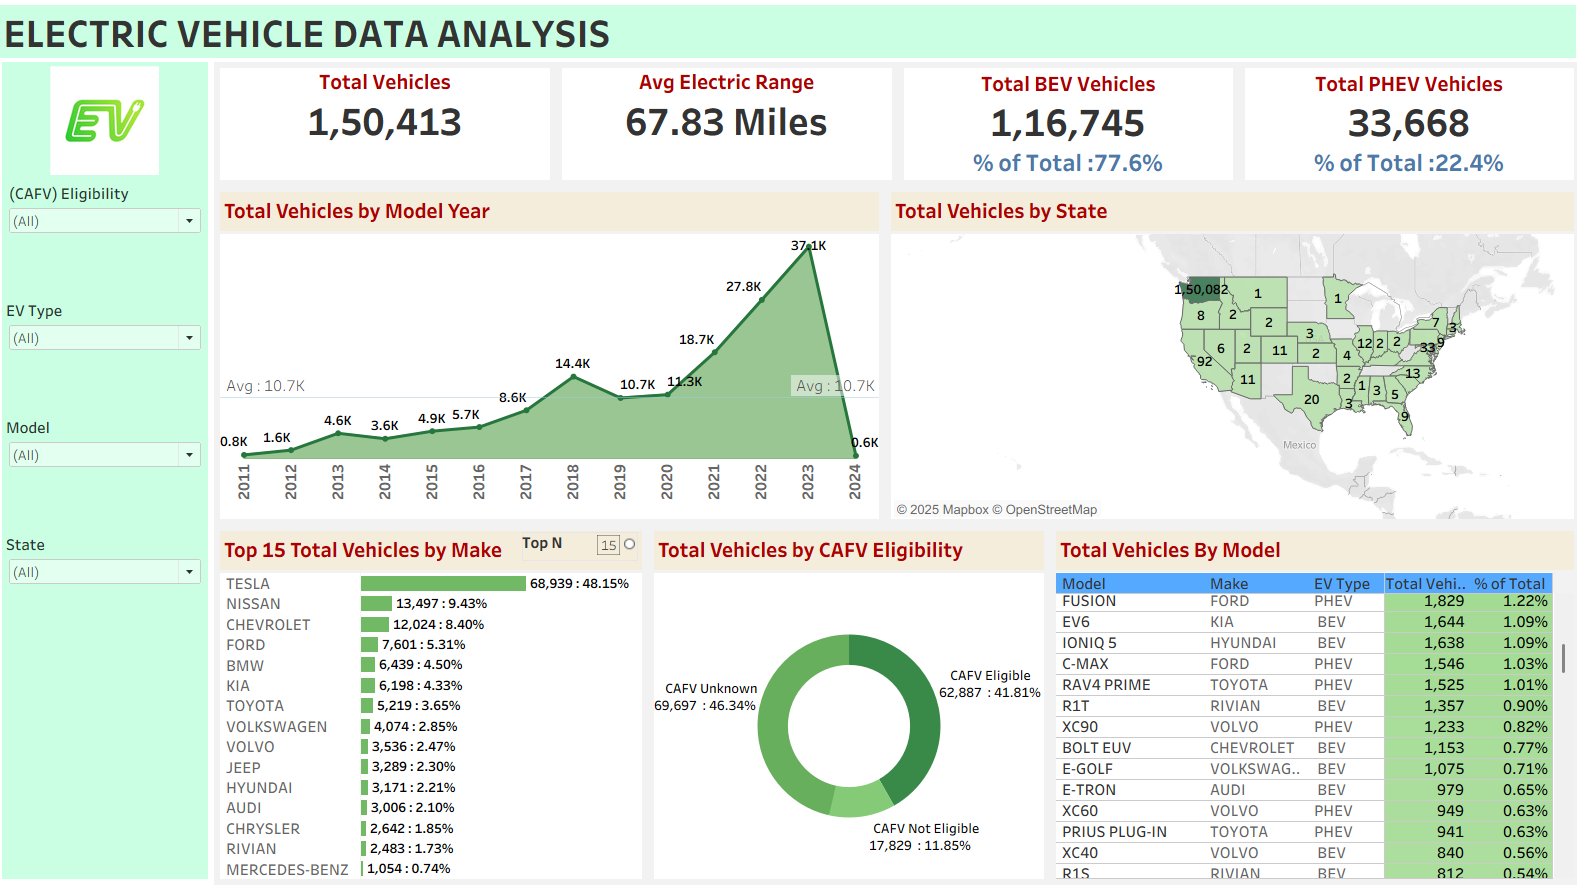

What the dashboard file says about the page in this screenshot:
{"tool":"tableau","page":{"name":"EV Dashboard","canvas":[1600,900],"ordinal":0},"visuals":[{"type":"title","box":[8,8,1584,61]},{"type":"image","param":"Image/images.jpg","box":[14,69,206,117]},{"type":"worksheet","title":"Total Vehicles","mark":"Automatic","box":[226,69,342,124]},{"type":"worksheet","title":"Avg Electric Range","mark":"Automatic","box":[568,69,342,124]},{"type":"worksheet","title":"Total BEV Vehicles","mark":"Automatic","box":[910,69,341,124]},{"type":"worksheet","title":"Total PHEV Vehicles","mark":"Automatic","box":[1251,69,341,124]},{"type":"filter","title":"Total Vehicles by Model Year","param":"[federated.1jj1l7w0h50cav14l78xg06a3aeh].[none:Clean Alternative Fuel Vehicle (C","box":[14,186,206,117]},{"type":"worksheet","title":"Total Vehicles by Model Year","mark":"Area","rows":["Calculation_1153484497302728704","Calculation_1153484497302728704"],"cols":["Model Year"],"box":[226,193,671,339]},{"type":"worksheet","title":"Total Vehicles by State","mark":"Multipolygon","box":[897,193,695,339]},{"type":"filter","title":"Total Vehicles by Model Year","param":"[federated.1jj1l7w0h50cav14l78xg06a3aeh].[none:Electric Vehicle Type:nk]","box":[14,303,206,117]},{"type":"filter","title":"Total Vehicles by Model Year","param":"[federated.1jj1l7w0h50cav14l78xg06a3aeh].[none:Model:nk]","box":[14,420,206,117]},{"type":"worksheet","title":"Top 10 Total Vehicles by Make","mark":"Automatic","rows":["Make"],"cols":["Calculation_1153484497302728704"],"box":[226,532,434,359.9]},{"type":"worksheet","title":"Total Vehicles by CAFV Eligibility","mark":"Pie","rows":["Calculation_1420322775572156417","Calculation_1420322775572156417"],"box":[660,532,402,359.9]},{"type":"worksheet","title":"Total Vehicles By Model ","mark":"Square","rows":["Model","Make","Electric Vehicle Type"],"box":[1062,532,530,359.9]},{"type":"filter","title":"Total Vehicles by Model Year","param":"[federated.1jj1l7w0h50cav14l78xg06a3aeh].[none:State:nk]","box":[14,537,206,117]},{"type":"parameter","param":"[Parameters].[Parameter 1]","box":[534,539,116,29]},{"type":"blank","box":[14,654,206,116]},{"type":"blank","box":[14,770,206,116]}]}

Visuals, with their boxes in screenshot pixels (x1, y1, x2, y2), scaled from the page's 1600x900 canvas onto the 1577x887 screenshot:
title: {"x1": 8, "y1": 8, "x2": 1569, "y2": 68}
image: {"x1": 14, "y1": 68, "x2": 217, "y2": 183}
"Total Vehicles" worksheet: {"x1": 223, "y1": 68, "x2": 560, "y2": 190}
"Avg Electric Range" worksheet: {"x1": 560, "y1": 68, "x2": 897, "y2": 190}
"Total BEV Vehicles" worksheet: {"x1": 897, "y1": 68, "x2": 1233, "y2": 190}
"Total PHEV Vehicles" worksheet: {"x1": 1233, "y1": 68, "x2": 1569, "y2": 190}
"Total Vehicles by Model Year" filter: {"x1": 14, "y1": 183, "x2": 217, "y2": 299}
"Total Vehicles by Model Year" worksheet (Area marks): {"x1": 223, "y1": 190, "x2": 884, "y2": 524}
"Total Vehicles by State" worksheet (Multipolygon marks): {"x1": 884, "y1": 190, "x2": 1569, "y2": 524}
"Total Vehicles by Model Year" filter: {"x1": 14, "y1": 299, "x2": 217, "y2": 414}
"Total Vehicles by Model Year" filter: {"x1": 14, "y1": 414, "x2": 217, "y2": 529}
"Top 10 Total Vehicles by Make" worksheet: {"x1": 223, "y1": 524, "x2": 651, "y2": 879}
"Total Vehicles by CAFV Eligibility" worksheet (Pie marks): {"x1": 651, "y1": 524, "x2": 1047, "y2": 879}
"Total Vehicles By Model " worksheet (Square marks): {"x1": 1047, "y1": 524, "x2": 1569, "y2": 879}
"Total Vehicles by Model Year" filter: {"x1": 14, "y1": 529, "x2": 217, "y2": 645}
parameter: {"x1": 526, "y1": 531, "x2": 641, "y2": 560}
blank: {"x1": 14, "y1": 645, "x2": 217, "y2": 759}
blank: {"x1": 14, "y1": 759, "x2": 217, "y2": 873}
